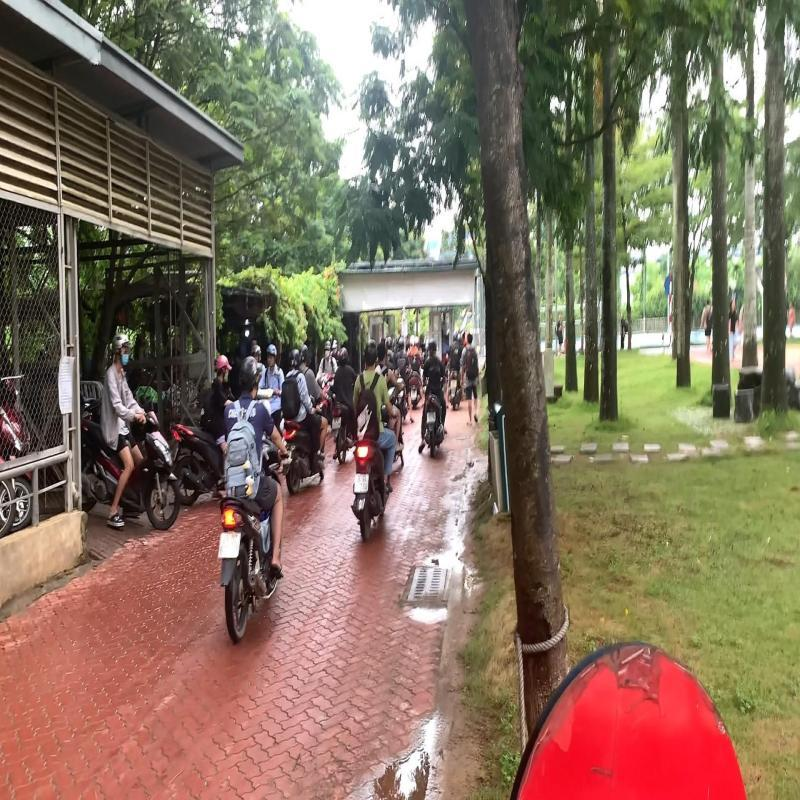licenseplate: (216, 528, 242, 562)
motorcyclist: (215, 354, 294, 648)
